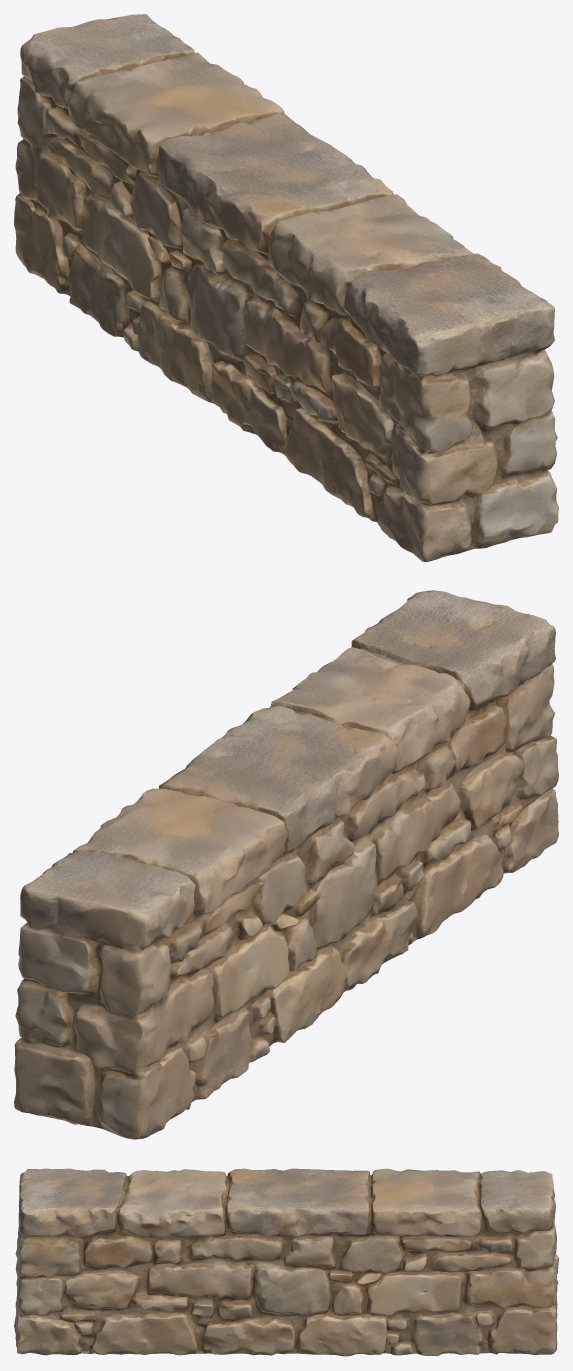
3 views of the same model, one above another, from view 1: azimuth 30°, elevation 25°; view 2: azimuth 150°, elevation 25°; view 3: azimuth 270°, elevation 25° (orthographic). The views are drawn at different scales.
Parts seen in each view (by area): view 1: tripo_node_e17d26ce-5ecd-46d4-9822-f97adb7ac5c1; view 2: tripo_node_e17d26ce-5ecd-46d4-9822-f97adb7ac5c1; view 3: tripo_node_e17d26ce-5ecd-46d4-9822-f97adb7ac5c1.
Boxes of the visible parts, left/top/right/bottom form: tripo_node_e17d26ce-5ecd-46d4-9822-f97adb7ac5c1: left=14, top=14, right=558, bottom=561; tripo_node_e17d26ce-5ecd-46d4-9822-f97adb7ac5c1: left=14, top=590, right=558, bottom=1139; tripo_node_e17d26ce-5ecd-46d4-9822-f97adb7ac5c1: left=14, top=1168, right=558, bottom=1356.
Size of the model in its own units: 0.203 by 0.2982 by 1.
Materials: 1 (1 with a texture image).
